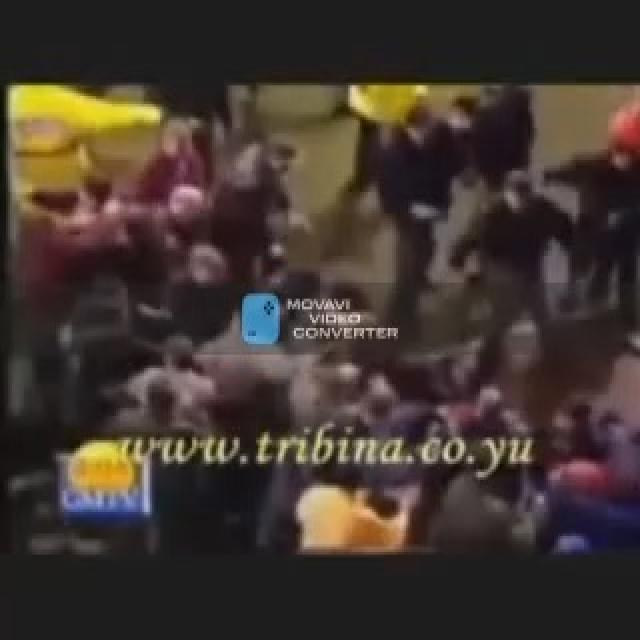non-voilence: (4, 77, 638, 552)
